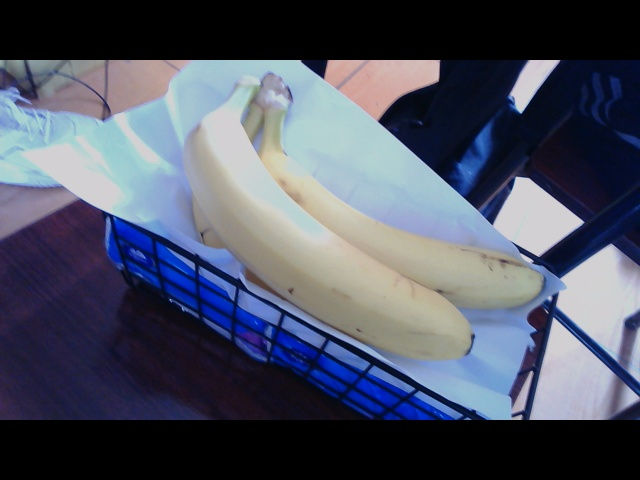banana: (192, 114, 531, 354)
